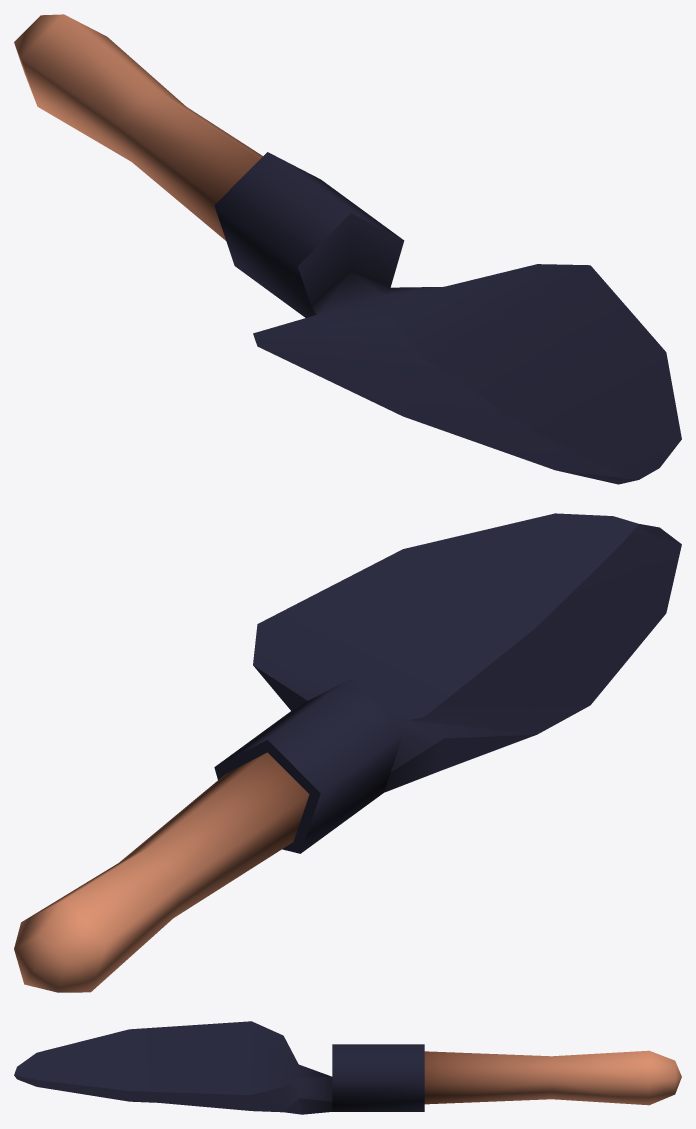
File: Tools_Trowel.fbx
3 renders of one model, top to bottom at view 1: azimuth 30°, elevation 25°; view 2: azimuth 150°, elevation 25°; view 3: azimuth 270°, elevation 25°, orthographic. The views are drawn at different scales.
Visible parts, largest first — view 1: Trowel; view 2: Trowel; view 3: Trowel.
Boxes of the visible parts, x1,y1,x2,y2 form: Trowel: [14, 14, 681, 484]; Trowel: [14, 513, 681, 992]; Trowel: [14, 1021, 681, 1114].
Bounding box in the file's own units: 59.7 × 19.29 × 188.
